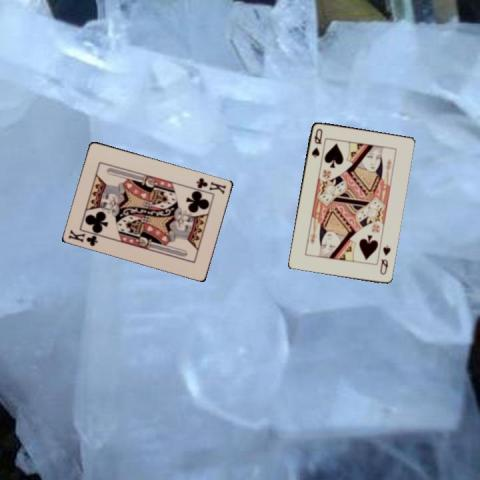Kc: (66, 227, 100, 247), (194, 175, 228, 194)
Qs: (377, 243, 392, 276), (309, 125, 323, 159)
